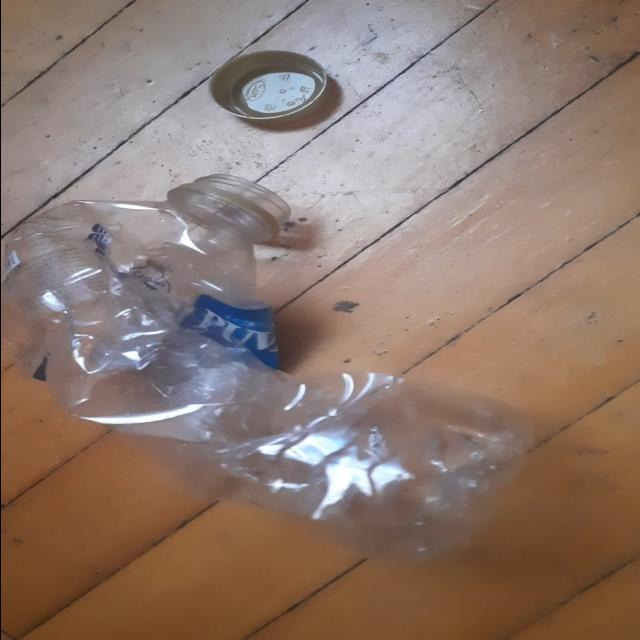Plastic: (3, 181, 536, 562)
